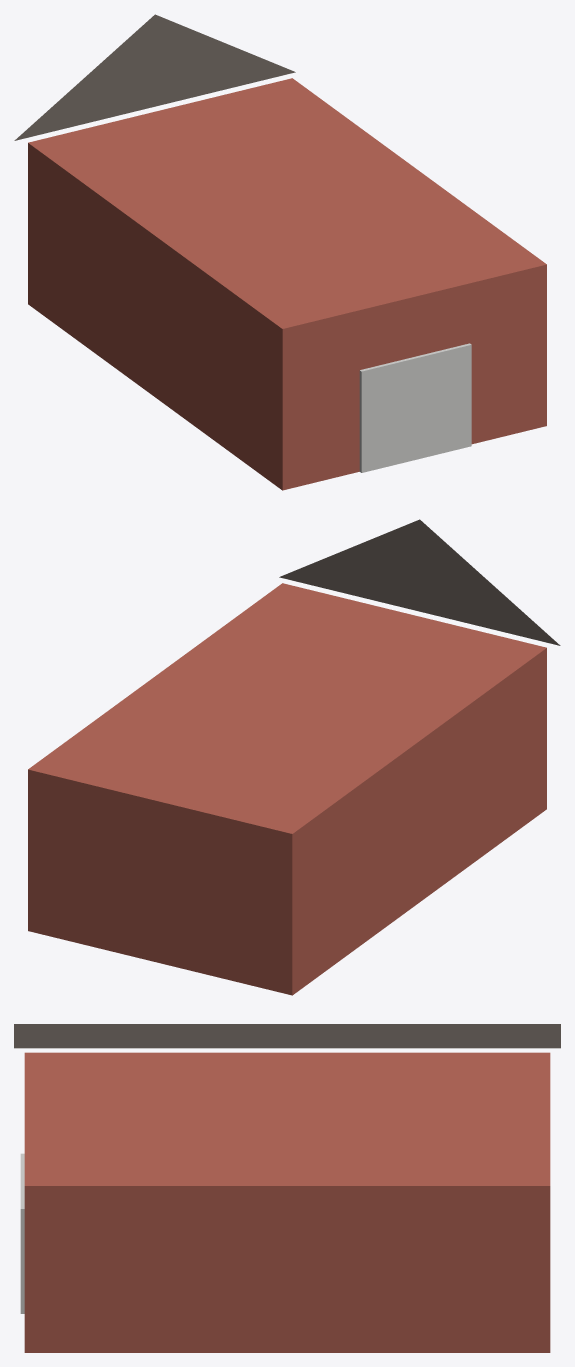
The model's file is barn.glb.
3 renders of one model, top to bottom at view 1: azimuth 30°, elevation 25°; view 2: azimuth 150°, elevation 25°; view 3: azimuth 270°, elevation 25°, orthographic. The views are drawn at different scales.
Bounding box in the file's own units: 12.8 × 11 × 20.8.
